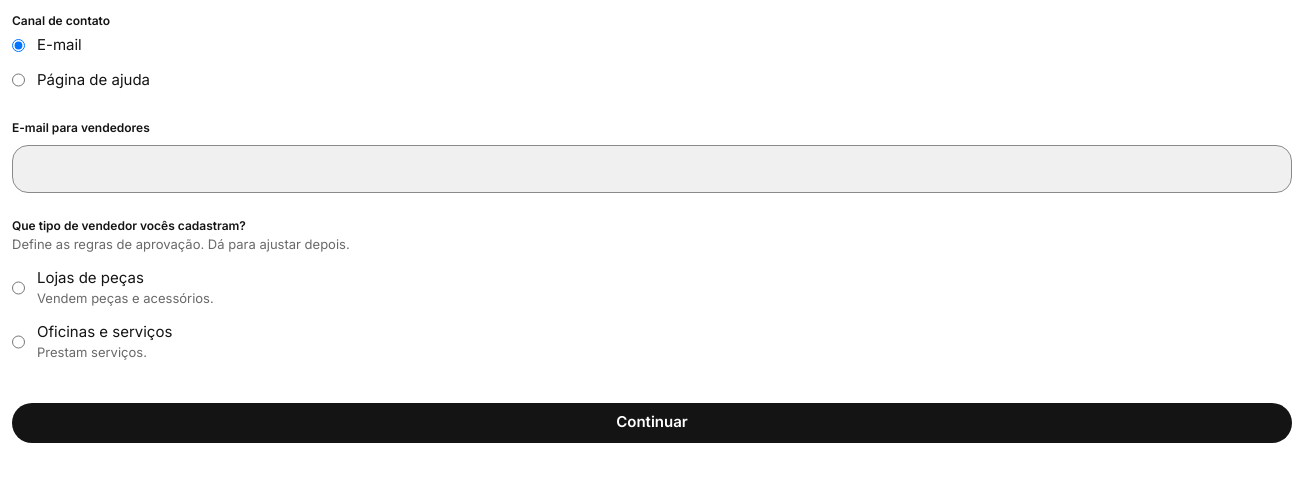
Scenario: OnboardingForm (S4, AC 4) › {"ok":false,"code":"NETWORK"} → error.network, values kept
Type "suporte@exemplo.test" into the field labelled "E-mail para vendedores" at (652, 169), box [12,145,1292,193]
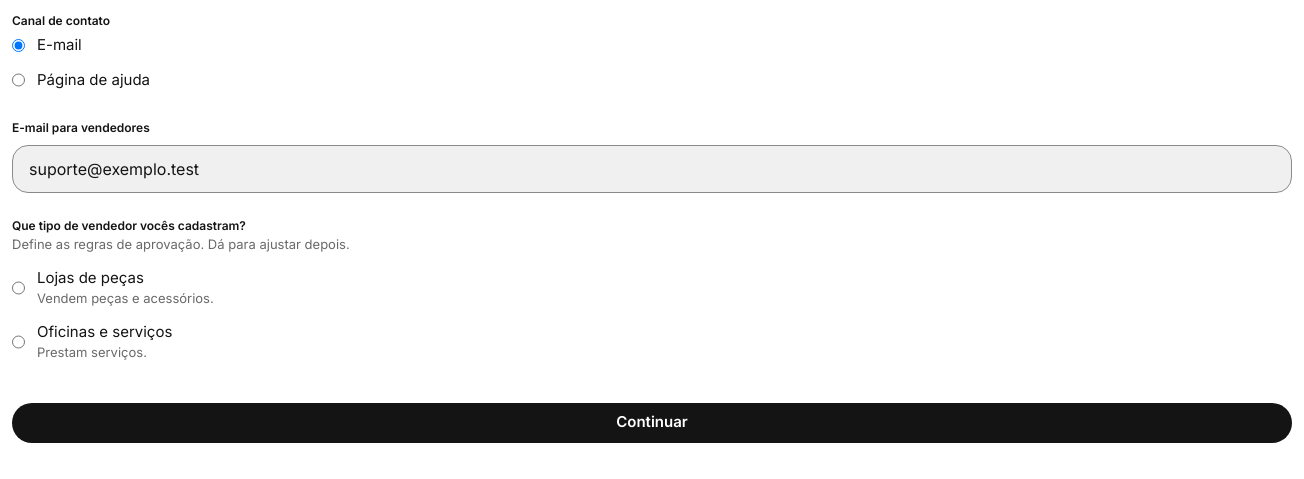
Click the radio button labelled "Lojas de peças" at (18, 288), box [12,266,25,308]
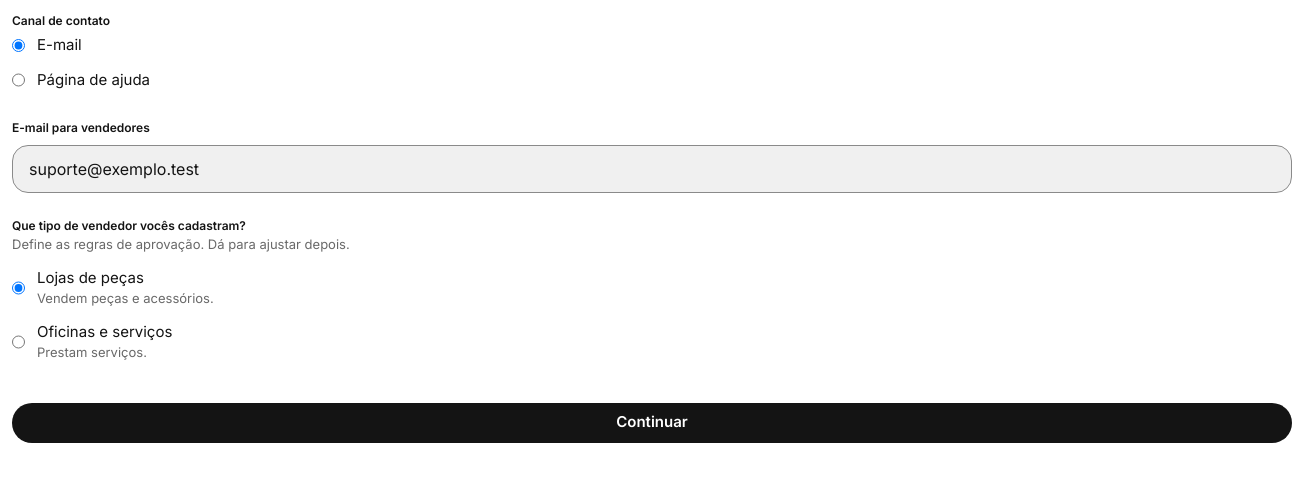
Click the button "Continuar" at (652, 422), box [12,402,1292,442]
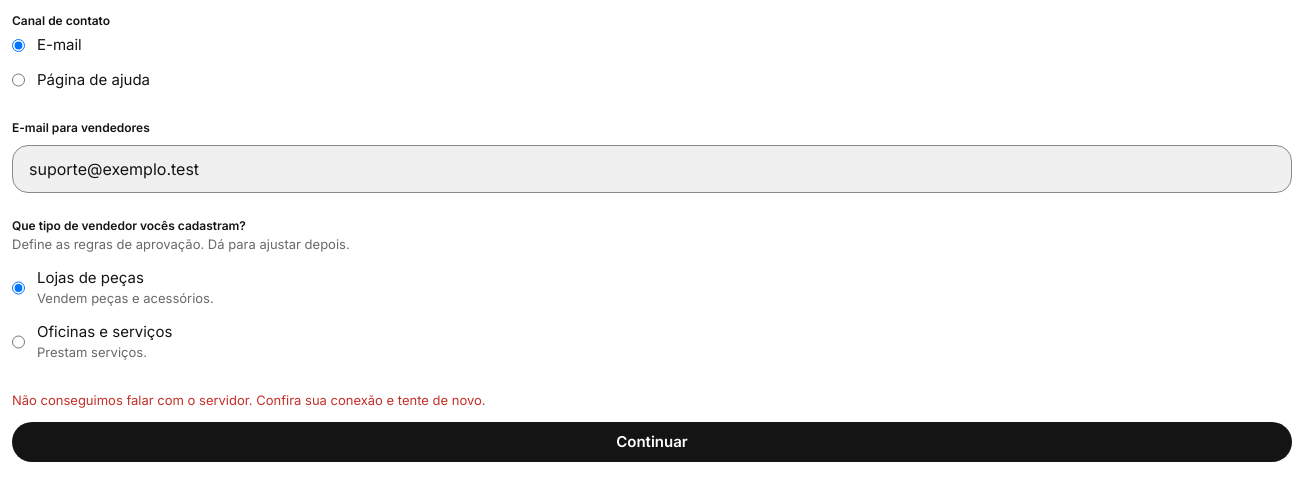
Result: the radio button labelled "Lojas de peças" is checked at [12,266,25,308]
Result: the message shows "Não conseguimos falar com o servidor." at [12,392,486,408]
